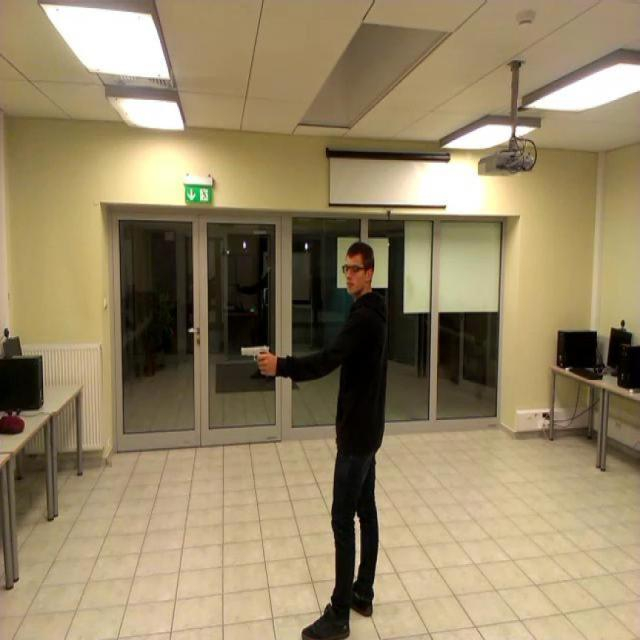pistol: (242, 344, 271, 374)
